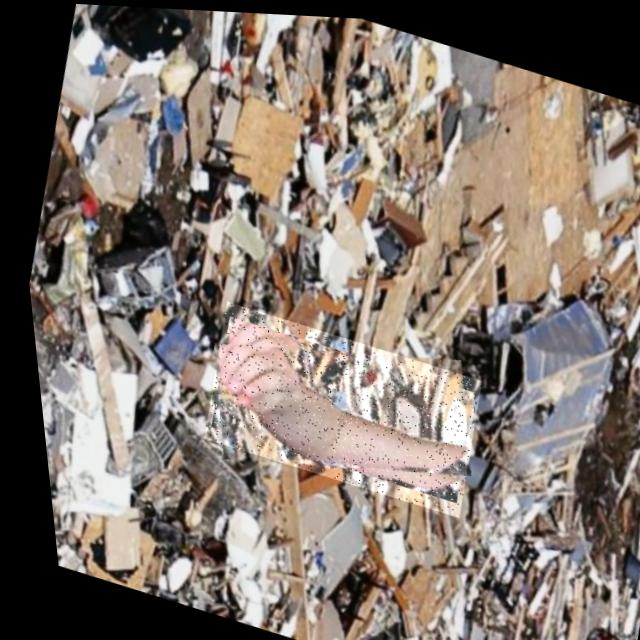Person in Rubble: (182, 297, 485, 515)
